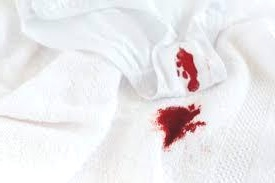blood: (156, 103, 202, 150), (178, 49, 197, 91)
